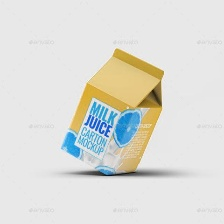carton: (58, 44, 167, 176)
